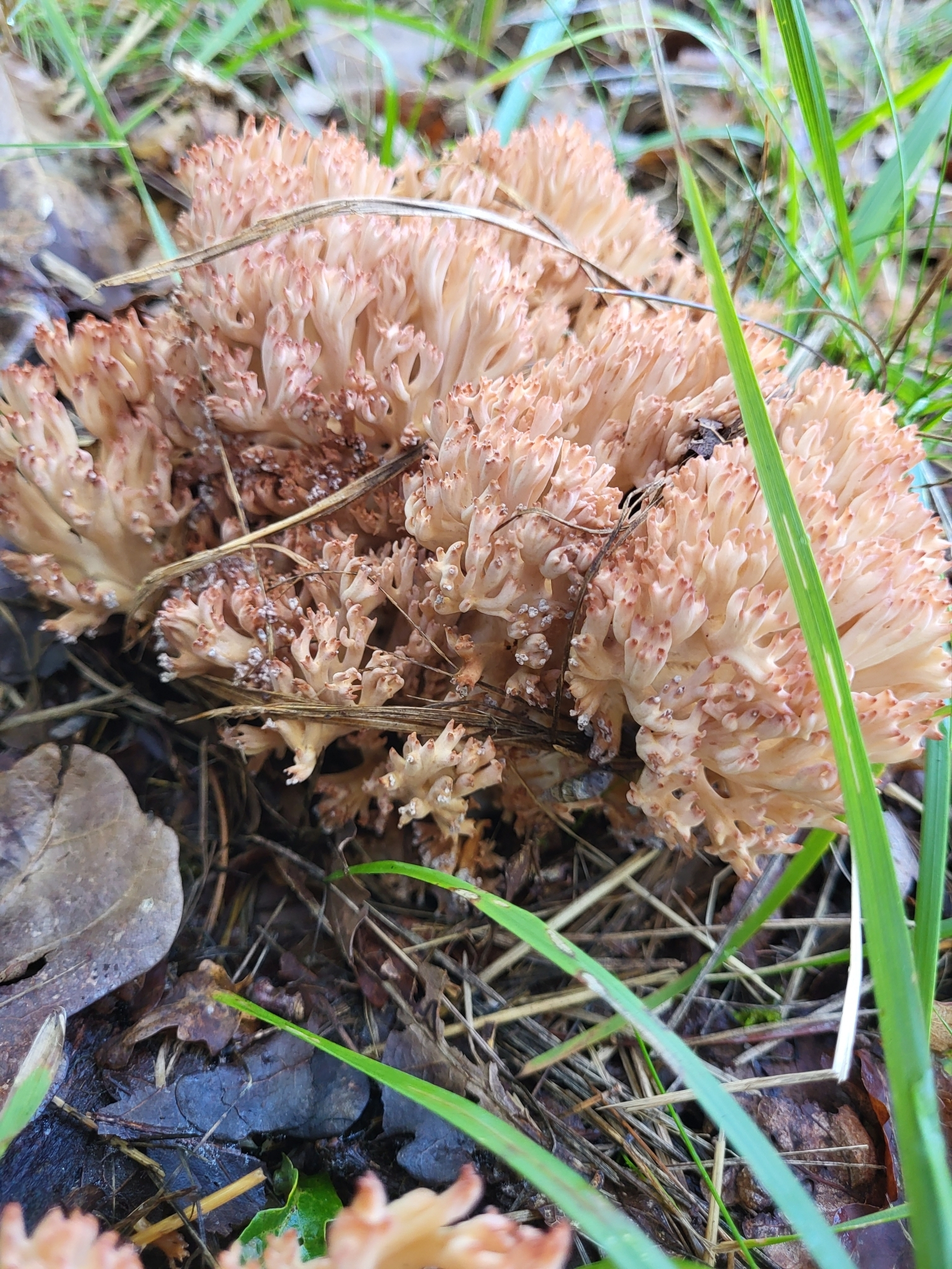coral: (0, 117, 836, 872), (772, 367, 947, 760)
